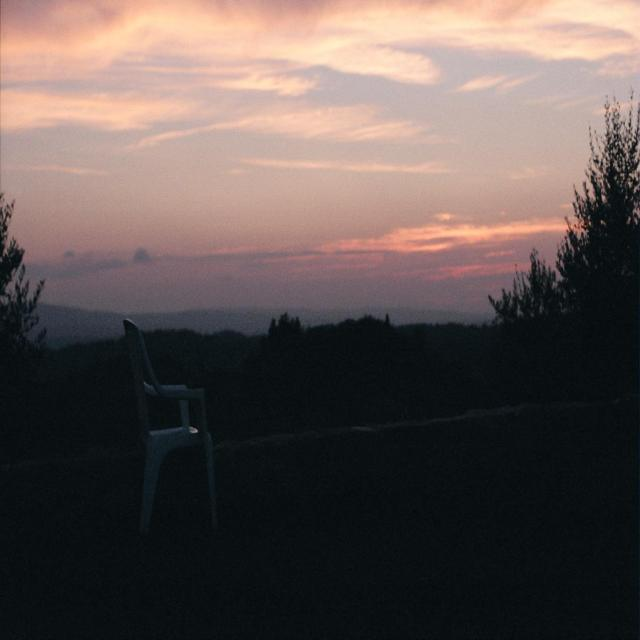chair: (116, 300, 224, 553)
